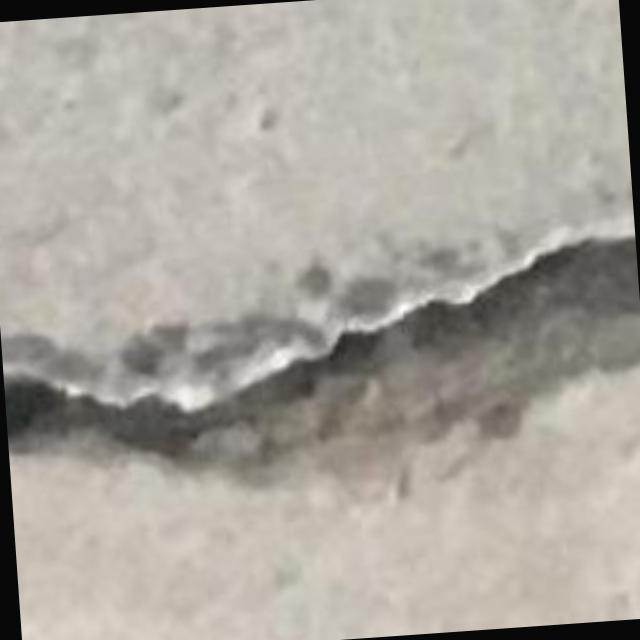crack: (5, 238, 639, 475)
